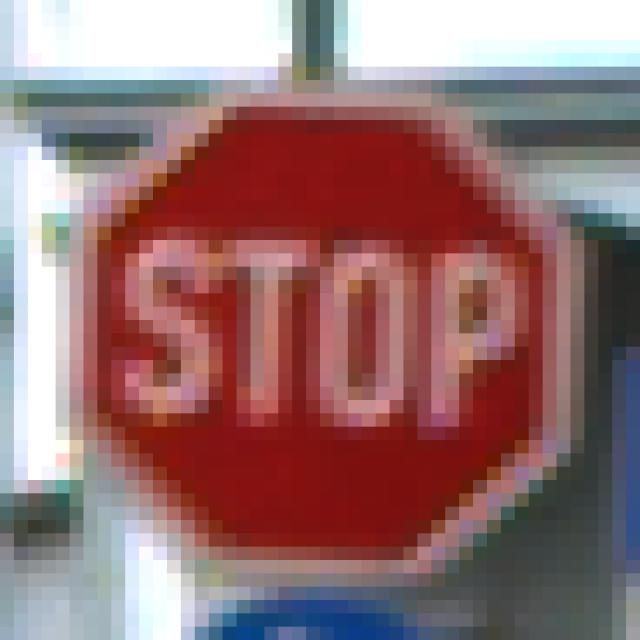STOP: (71, 68, 572, 574)
